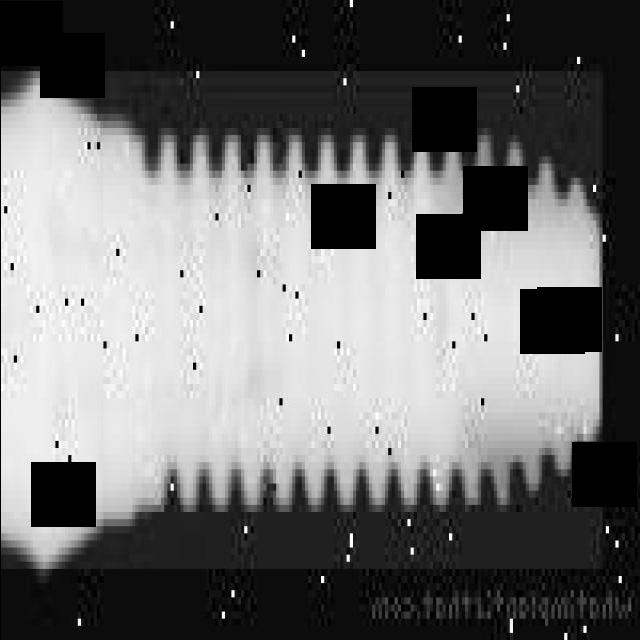Osstem Implant: (0, 71, 602, 569)
